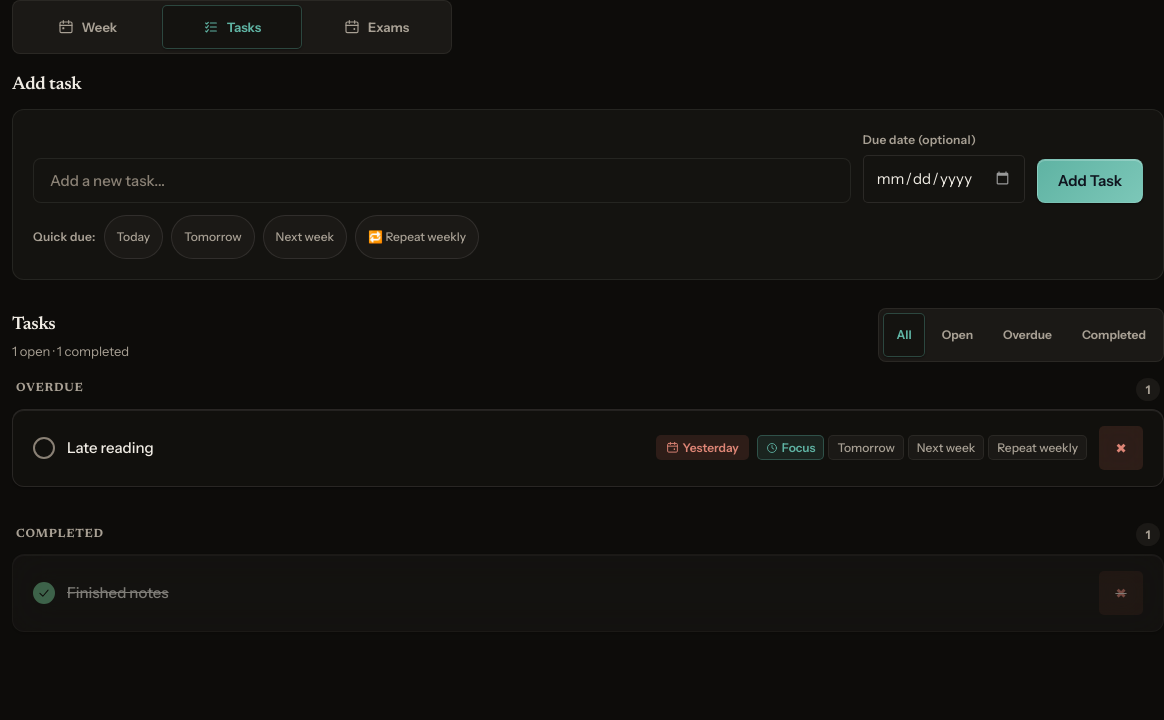
Test: TasksView › filters the grouped list without changing task records
Check: the checkbox labelled "Late reading" is shown, box x1=12 y1=409 x2=1163 y2=487
Click the button "Completed". click: (1114, 335)
box: x1=1069 y1=313 x2=1159 y2=357
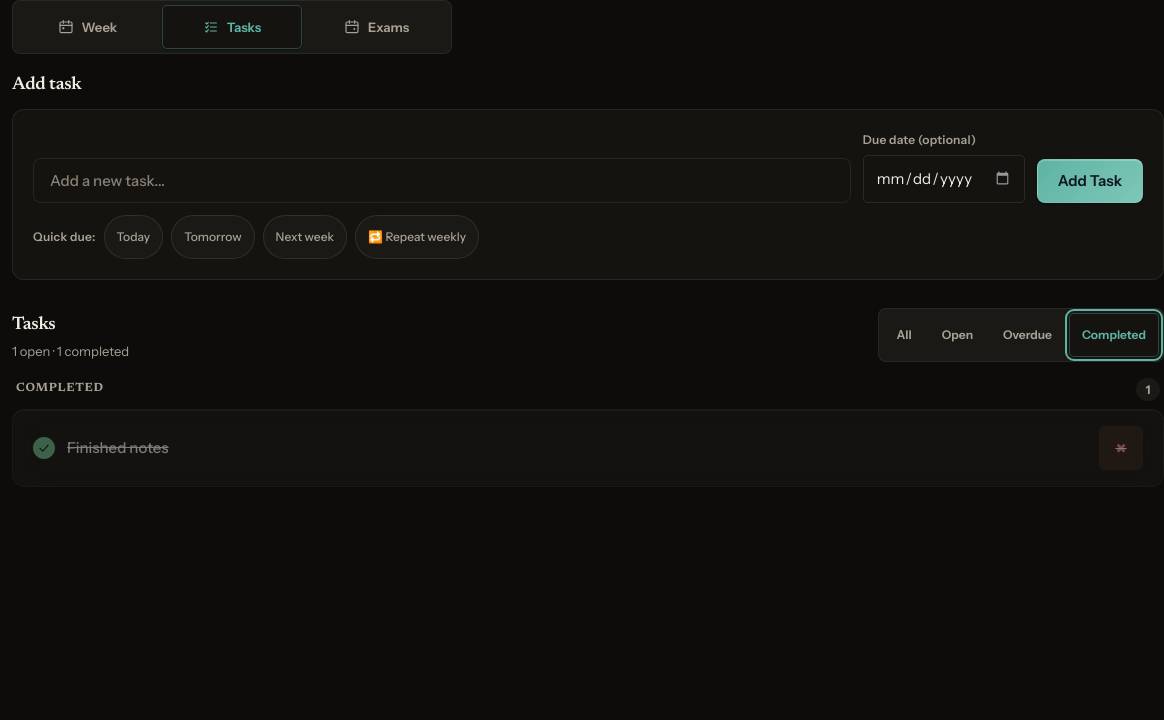
Check: the checkbox labelled "Finished notes" is shown, box x1=12 y1=409 x2=1163 y2=487
Check: the checkbox labelled "Late reading" is gone
